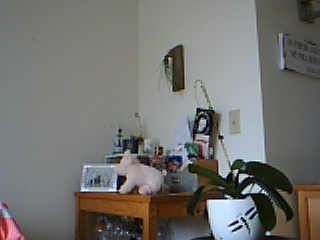piggy: (115, 148, 168, 196)
